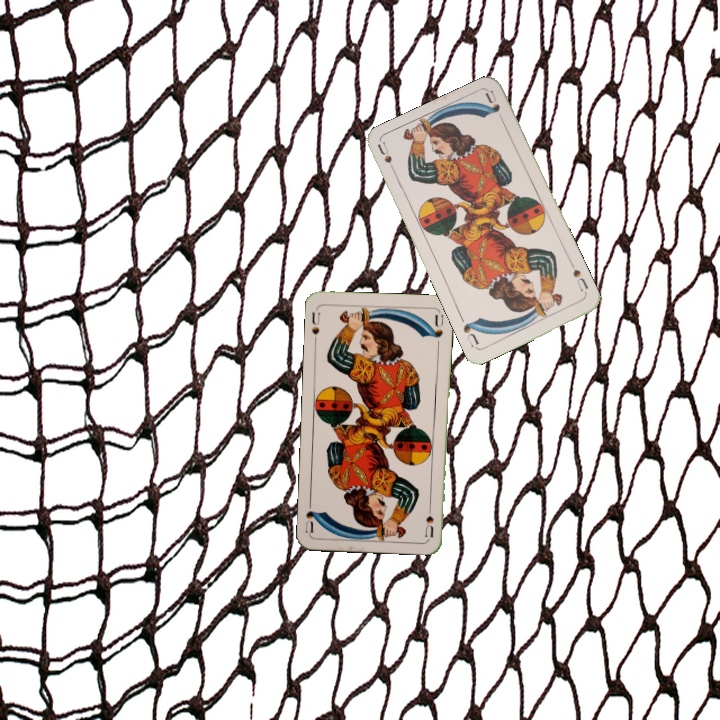SU: (374, 139, 400, 178), (569, 265, 591, 294), (421, 498, 436, 539), (308, 308, 322, 337)
